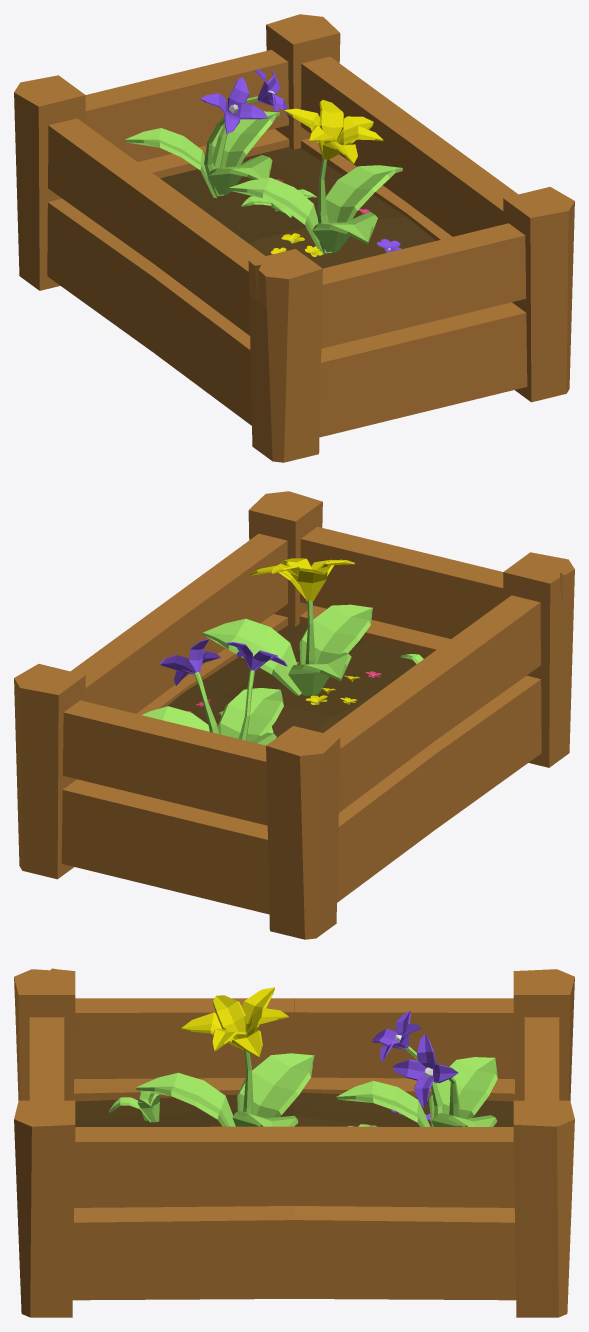
Rendered from flowers_bed_01.fbx.
The picture shows the model from 3 angles, top to bottom: view 1: azimuth 30°, elevation 25°; view 2: azimuth 150°, elevation 25°; view 3: azimuth 270°, elevation 25°; orthographic projection. The views are drawn at different scales.
Visible parts, largest first — view 1: flowers_bed_01; view 2: flowers_bed_01; view 3: flowers_bed_01.
Boxes of the visible parts, left/top/right/bottom form: flowers_bed_01: left=14, top=14, right=574, bottom=462; flowers_bed_01: left=14, top=491, right=574, bottom=939; flowers_bed_01: left=14, top=968, right=574, bottom=1317.
Bounding box in the file's own units: 101 × 72.82 × 151.
